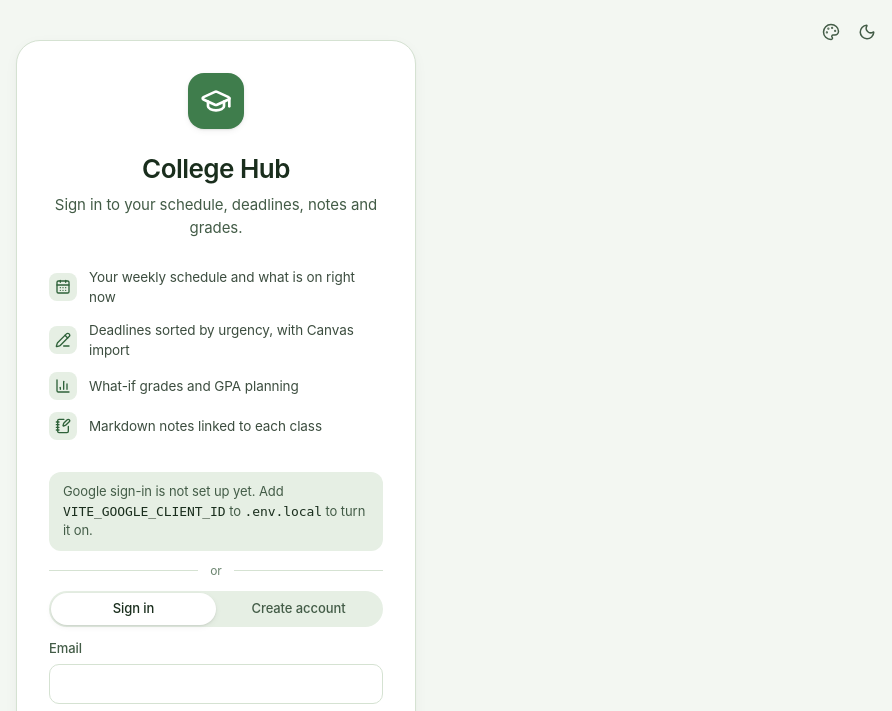
Scenario: email accounts › shows field errors from sign-up
The width and height of the screenshot is (892, 711).
Click the tab "Create account" at (298,608), box [216,592,381,624]
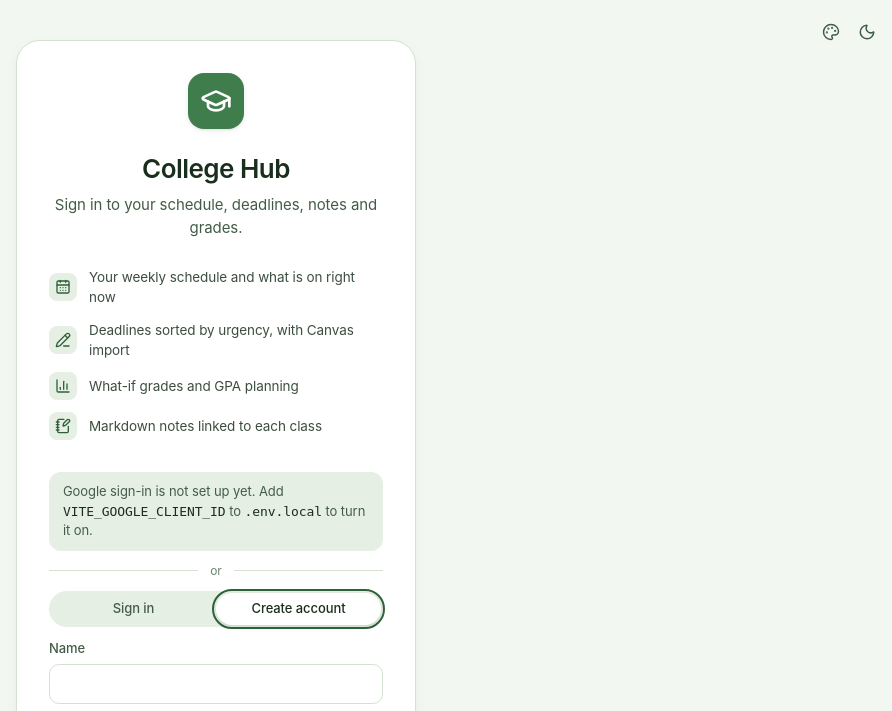
Type "Ana" into the field labelled "Name" at (216,684), box [49,664,383,704]
(page scrolled)
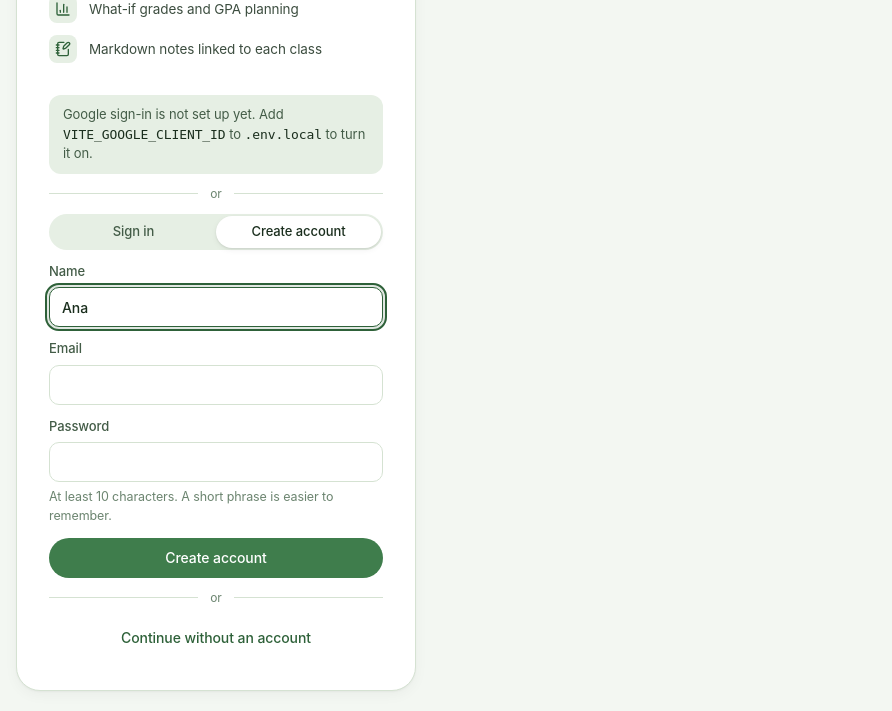
Type "ana@example.com" into the field labelled "Email" at (216,384), box [49,364,383,404]
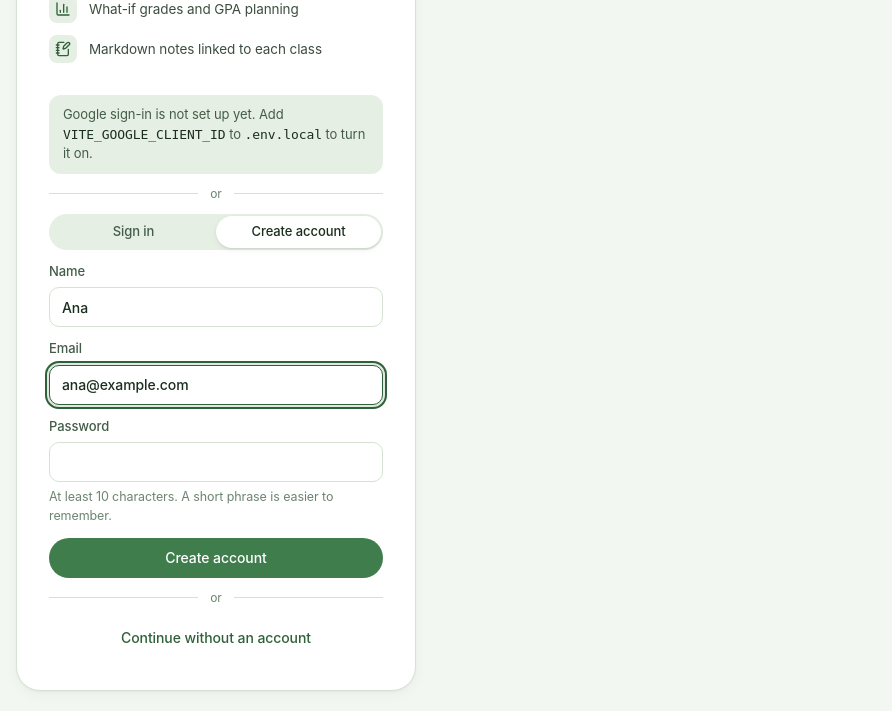
Type "short" into the password field labelled "Password" at (216,462), box [49,442,383,482]
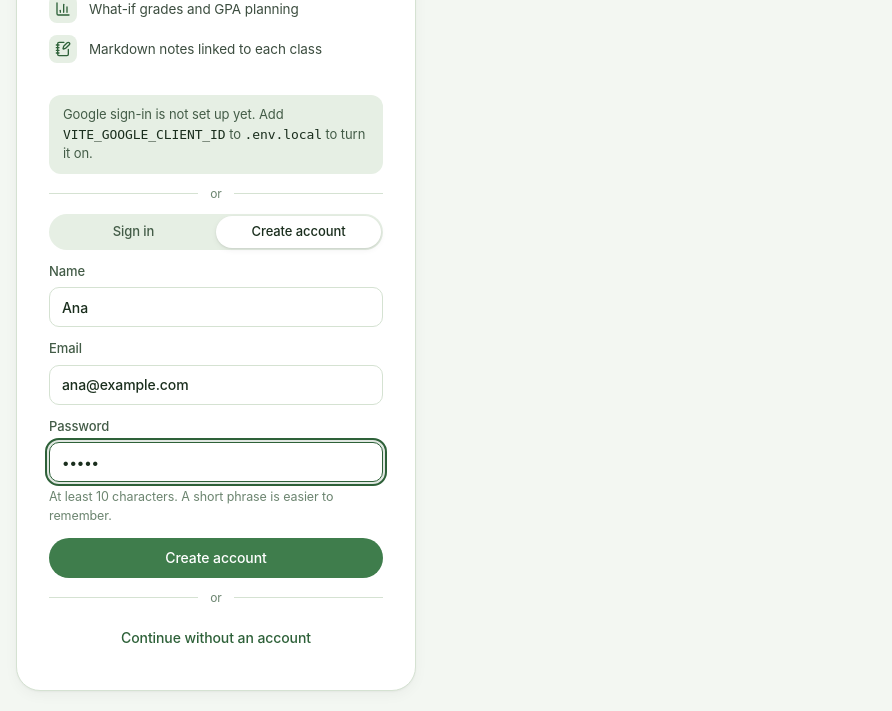
Click the button "Create account" at (216,558), box [49,538,383,578]
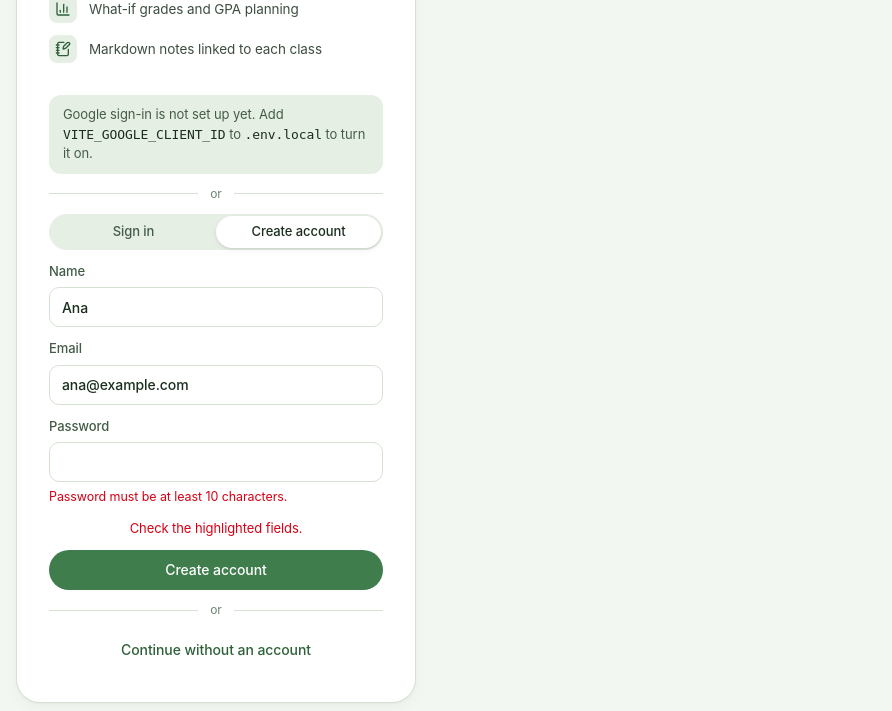
Expected: the text "Password must be at least 10 characters." is shown, [49,489,287,504]
